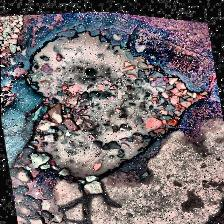pothole: (9, 4, 214, 198)
